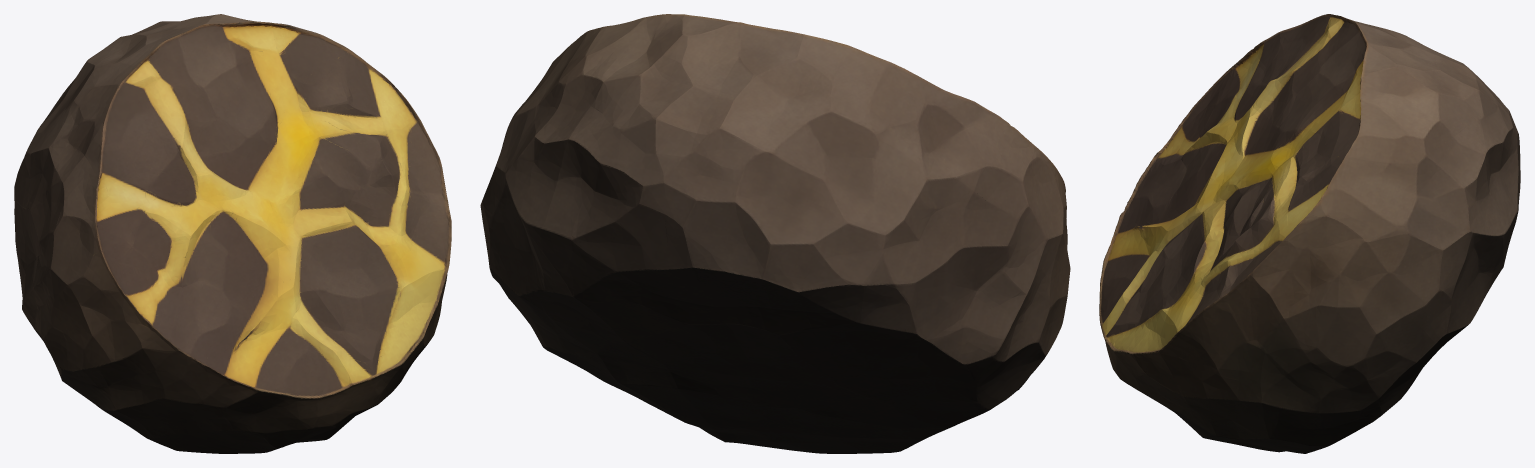
3 renders of one model, left to right at view 1: azimuth 30°, elevation 25°; view 2: azimuth 150°, elevation 25°; view 3: azimuth 270°, elevation 25°, orthographic. The views are drawn at different scales.
Parts seen in each view (by area): view 1: geometry_0; view 2: geometry_0; view 3: geometry_0.
Part boxes in pixels (x1,y1,x2,y2): geometry_0: (14, 14, 451, 453); geometry_0: (480, 14, 1070, 453); geometry_0: (1099, 14, 1520, 453).
Bounding box in the file's own units: 0.18 × 0.1607 × 0.1602.
1 material, 1 textured.
